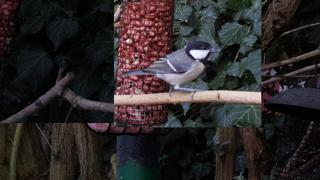great tit: (120, 40, 221, 101)
